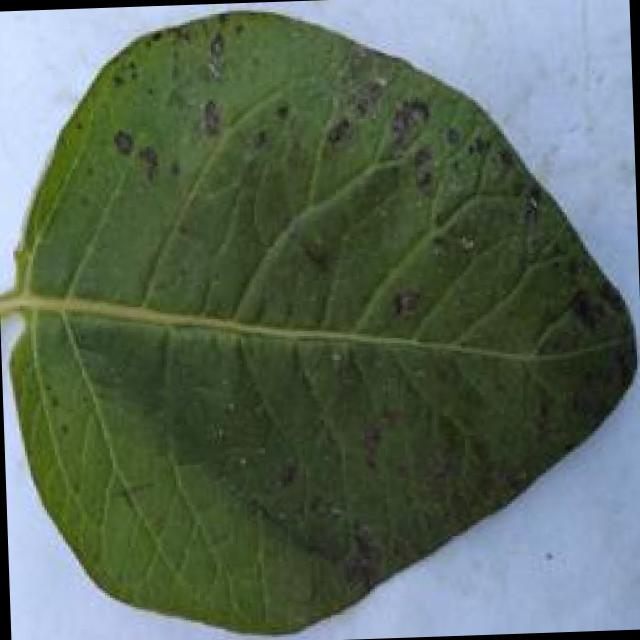Potato_Early_Blight: (7, 6, 640, 635)
